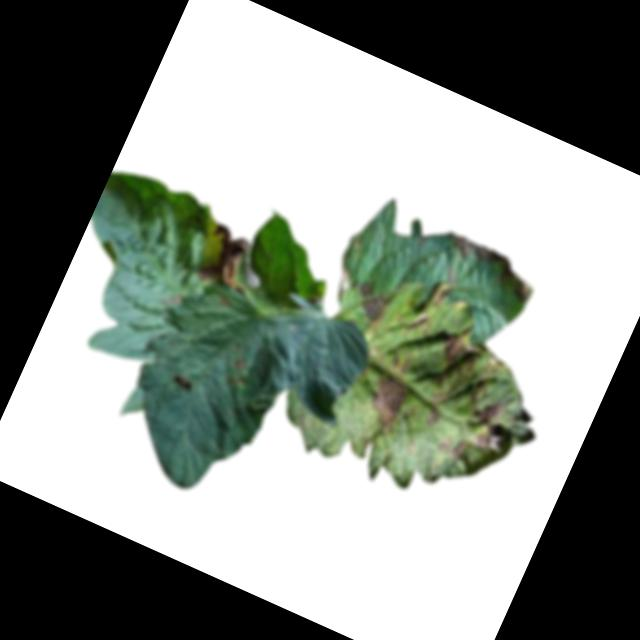Early_blight: (434, 229, 542, 304), (355, 341, 423, 436), (433, 329, 507, 393), (190, 221, 255, 293), (435, 414, 505, 477), (344, 282, 396, 339), (462, 381, 515, 433), (219, 354, 254, 394), (421, 403, 444, 430), (169, 372, 193, 392)
